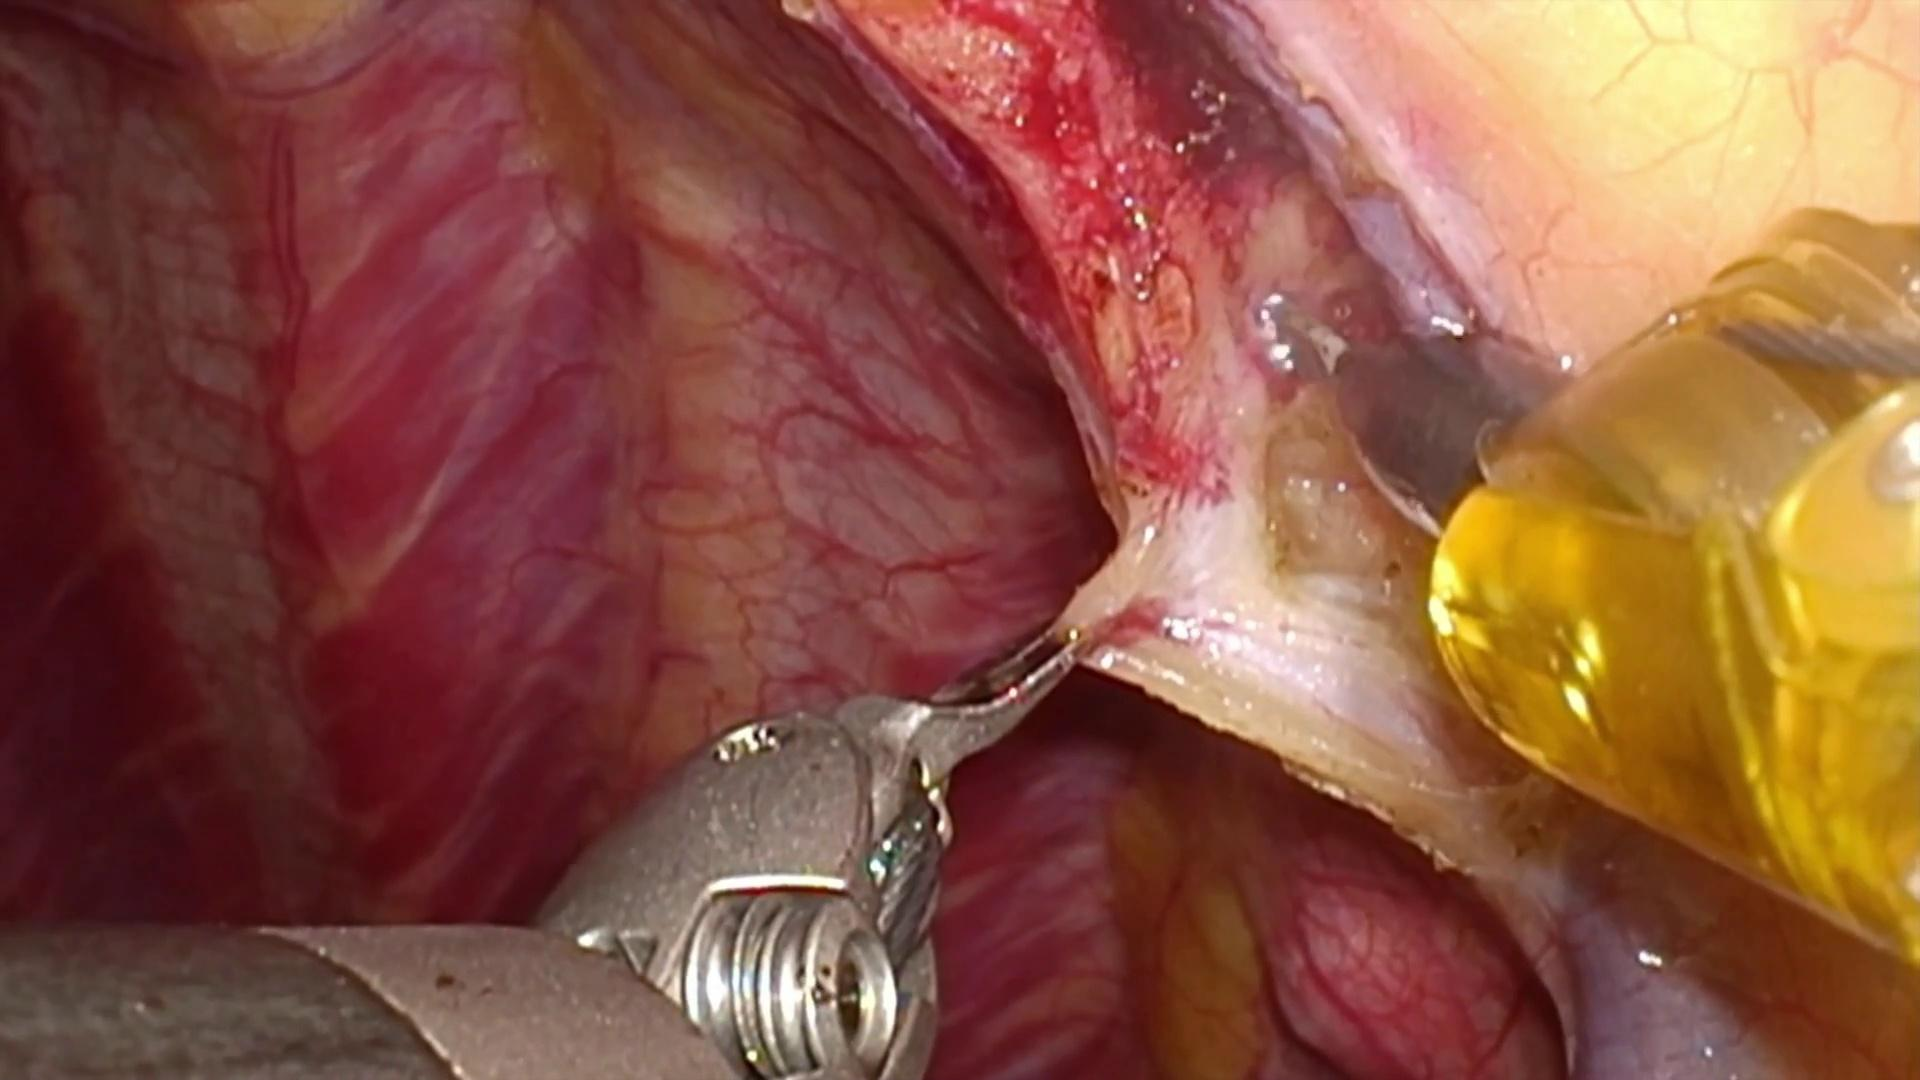Cautery_Spatula: (1254, 290, 1575, 525)
Debakey: (824, 618, 1096, 845)
